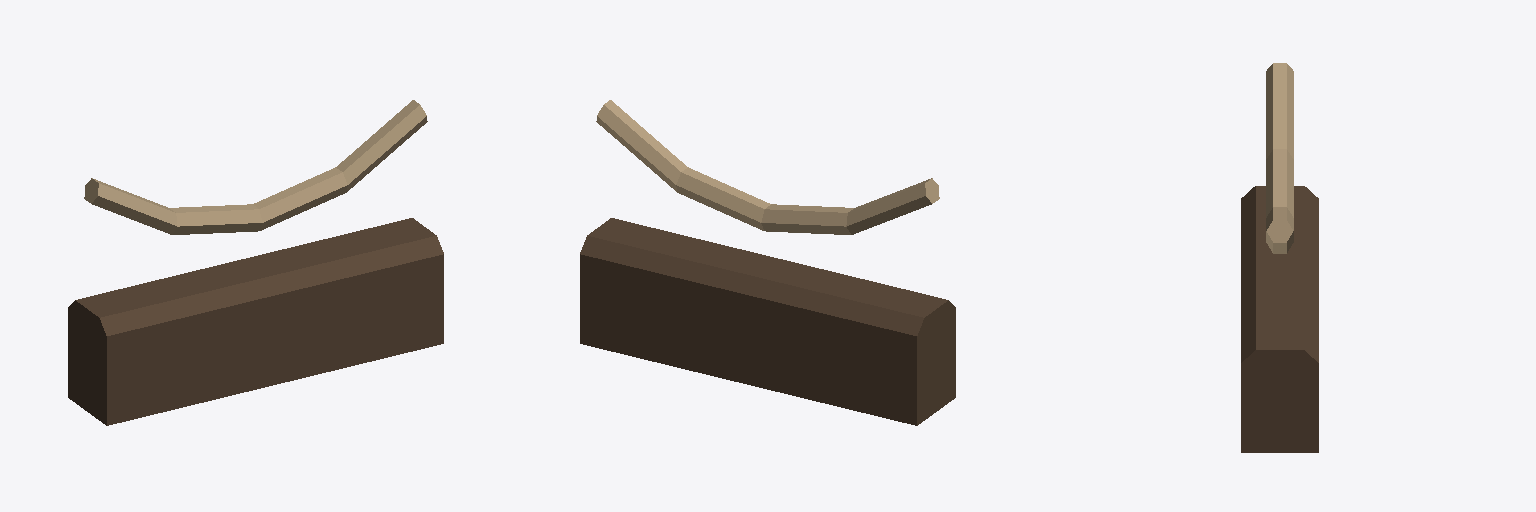
The model's file is Wood_Rope_Straight.obj.
3 renders of one model, left to right at view 1: azimuth 30°, elevation 25°; view 2: azimuth 150°, elevation 25°; view 3: azimuth 270°, elevation 25°, orthographic.
Visible parts, largest first — view 1: object1, object2; view 2: object1, object2; view 3: object1, object2.
Boxes of the visible parts, <box> form: object1: <box>68,218,443,425</box>; object2: <box>84,100,427,234</box>; object1: <box>580,218,955,425</box>; object2: <box>596,100,939,234</box>; object1: <box>1241,186,1318,452</box>; object2: <box>1266,63,1293,253</box>.
Size of the model in its own units: 1 by 0.6496 by 0.2.